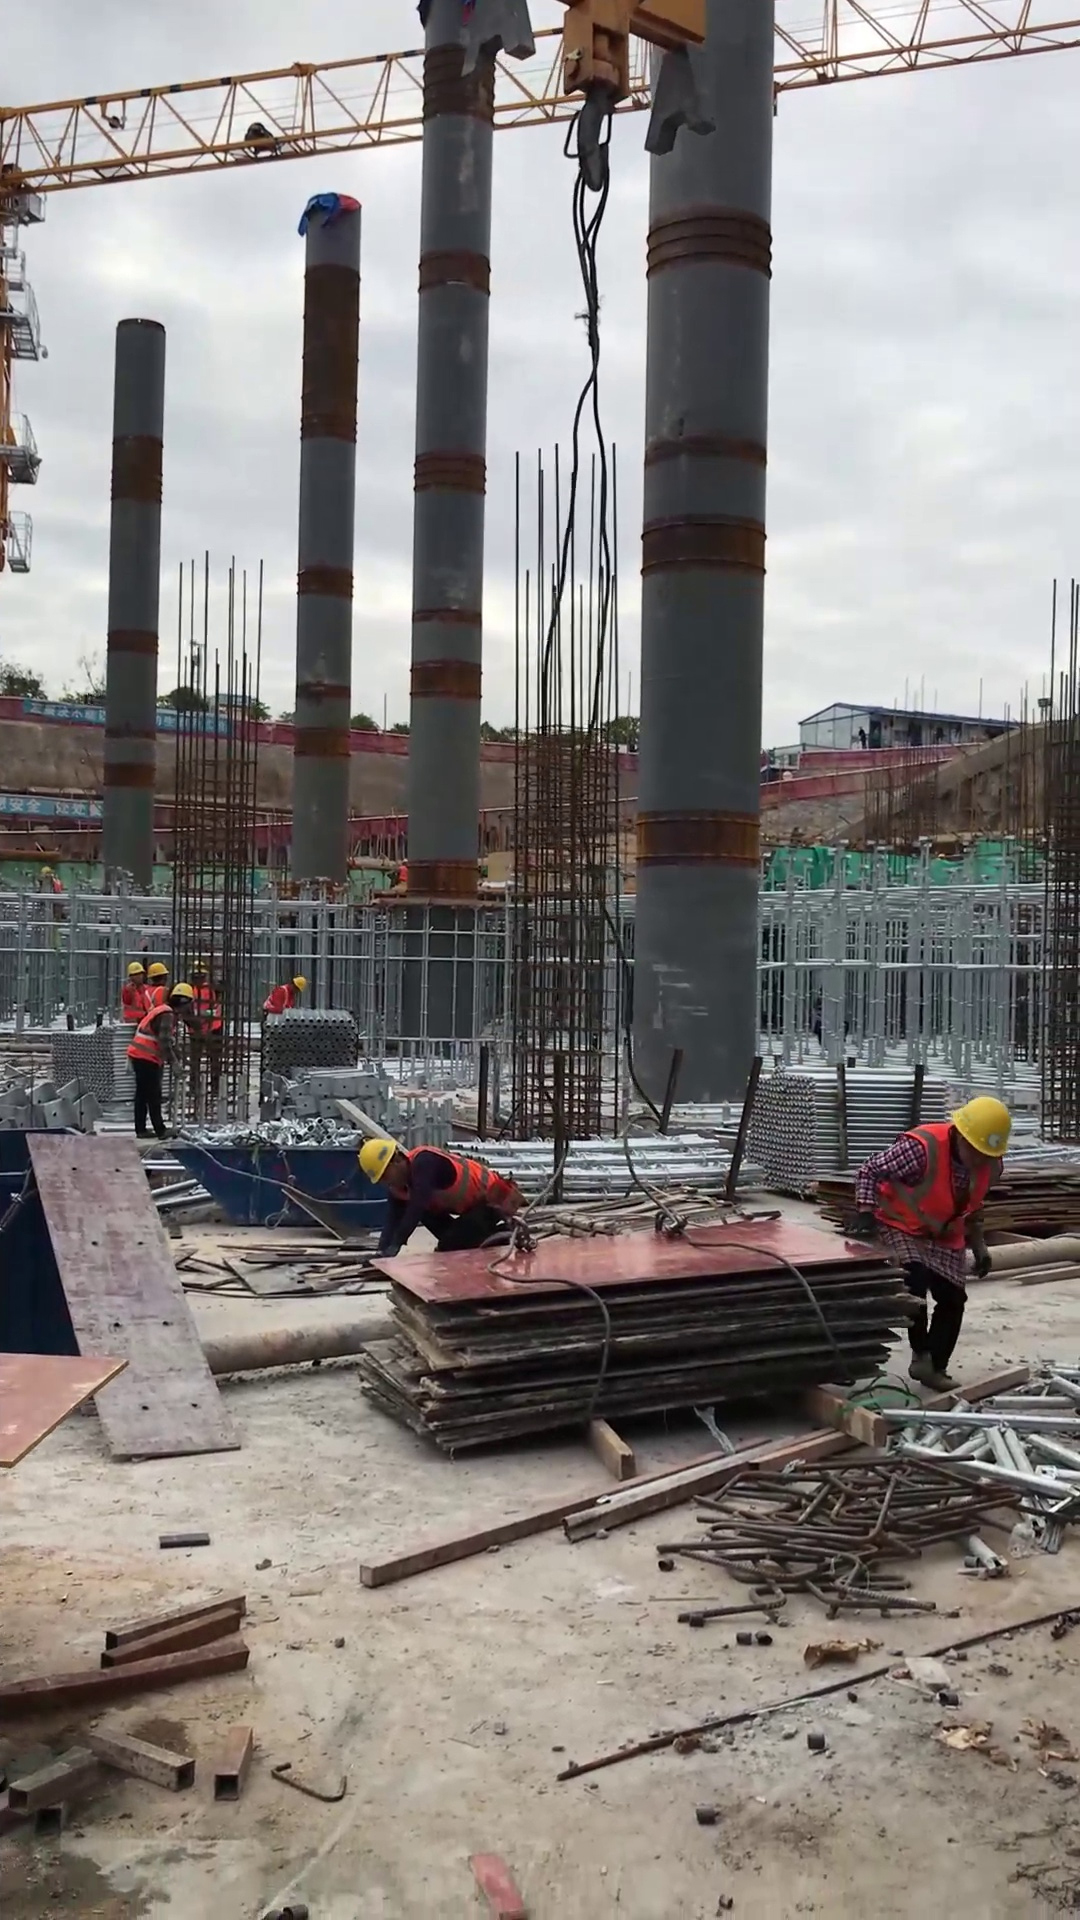board: (345, 1206, 911, 1470), (992, 1134, 1080, 1252)
helmet: (942, 1089, 1012, 1168), (356, 1135, 405, 1191), (166, 980, 195, 1004), (286, 972, 309, 998), (148, 960, 170, 983), (122, 960, 144, 980)
hook: (501, 1, 723, 189)
hopper: (171, 1127, 404, 1244)
person: (844, 1084, 1014, 1399), (350, 1134, 536, 1273), (122, 978, 200, 1145), (258, 967, 309, 1027), (115, 955, 153, 1028), (142, 956, 170, 1026)
scaffold: (749, 1060, 949, 1186), (251, 1006, 365, 1083), (53, 1029, 130, 1108)
slogan: (1, 793, 108, 819), (22, 698, 109, 728)
vest: (872, 1117, 994, 1262), (399, 1139, 529, 1227), (122, 998, 177, 1070), (258, 982, 295, 1016), (121, 980, 148, 1020), (142, 977, 169, 1018)
